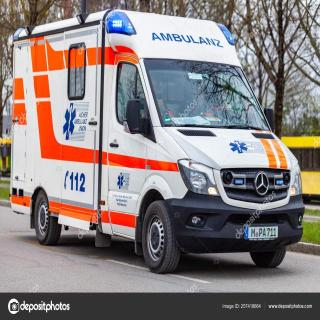Ambulance: (0, 7, 313, 275)
